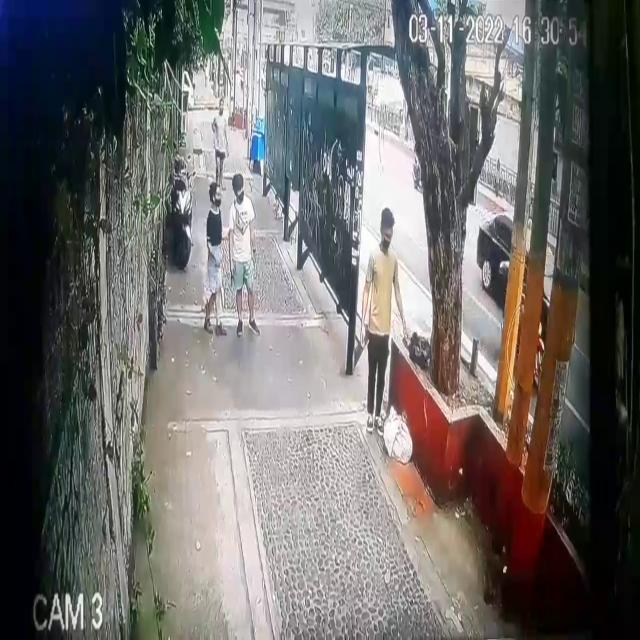human: (360, 207, 432, 436)
trash: (375, 387, 414, 468), (402, 319, 434, 374)
